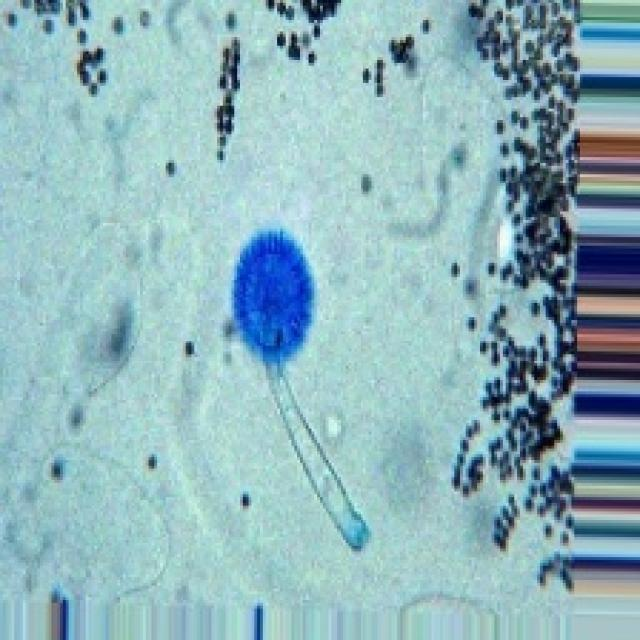Spherical_bacteria: (0, 0, 583, 623), (229, 225, 314, 368)
